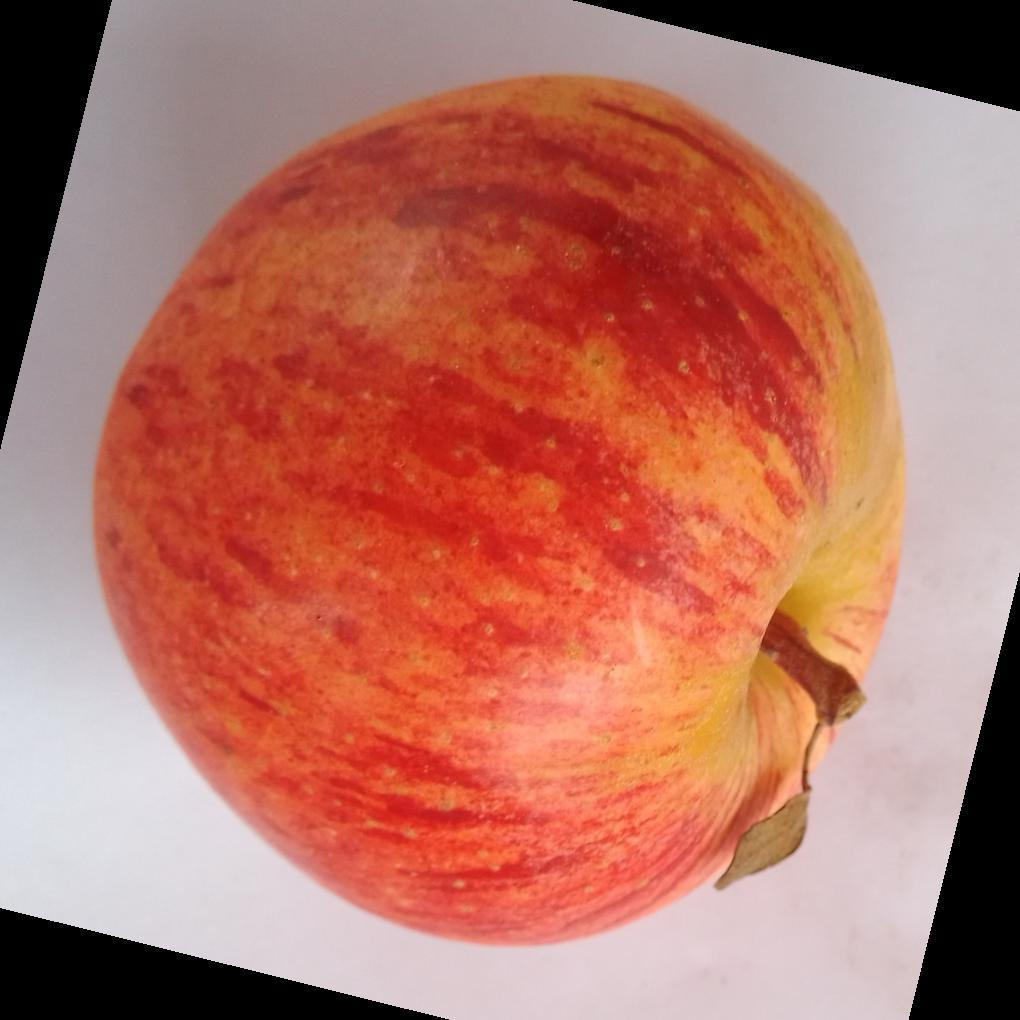FreshGuava: (87, 73, 908, 950)
